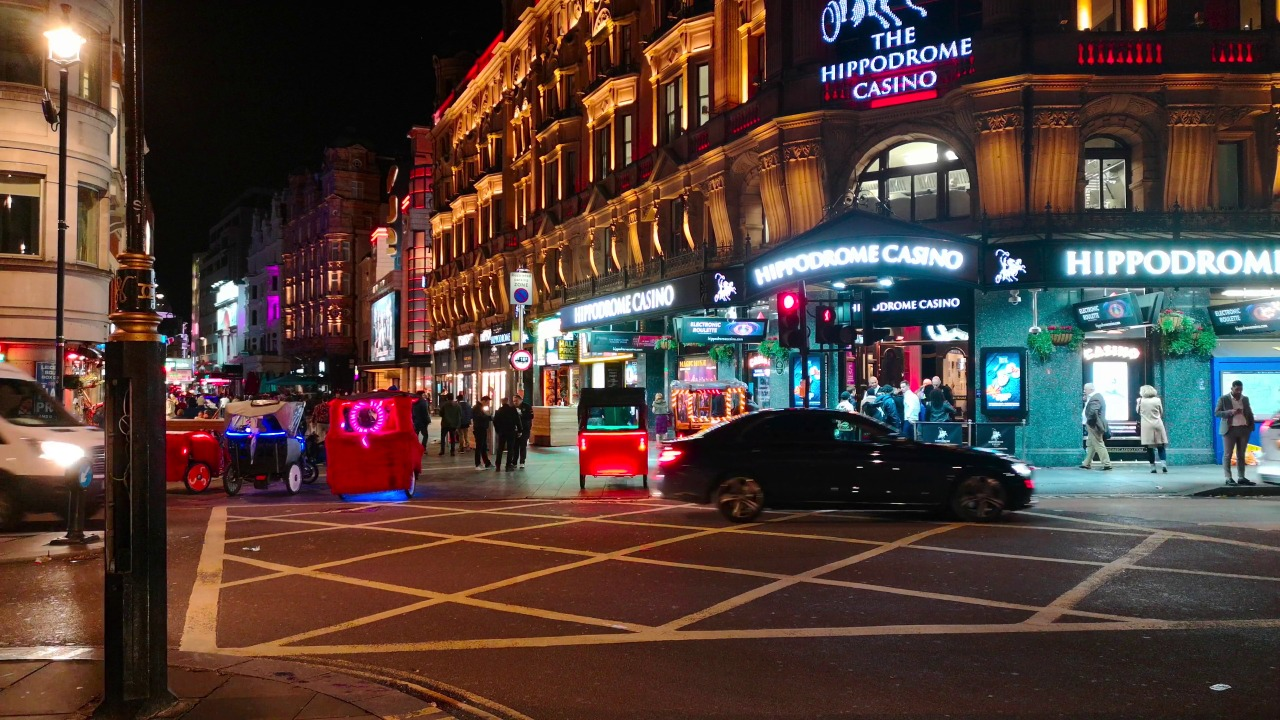car: (665, 409, 1036, 513), (1, 355, 137, 530), (333, 403, 429, 500), (570, 387, 648, 495), (233, 403, 321, 494), (167, 416, 234, 492), (678, 387, 742, 421)
person: (1211, 377, 1254, 488), (1079, 388, 1124, 480), (1139, 386, 1169, 478), (472, 395, 491, 468), (499, 401, 514, 469), (443, 397, 459, 458), (516, 400, 530, 464), (896, 384, 918, 407), (461, 399, 470, 449), (874, 384, 890, 405), (926, 390, 944, 407), (841, 388, 856, 407), (653, 396, 661, 430), (922, 377, 943, 389), (871, 374, 883, 387)
